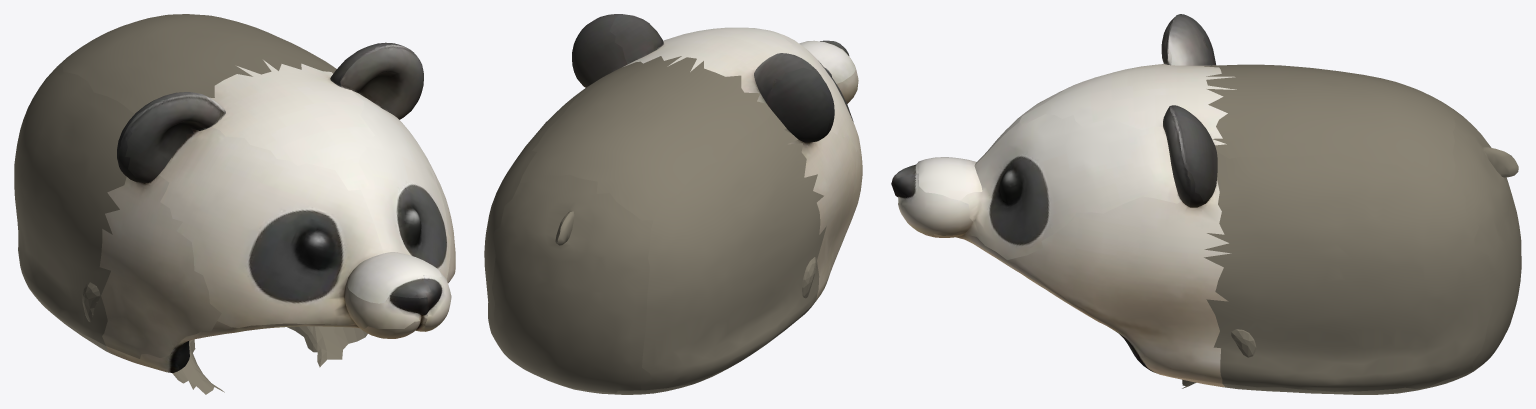
File: panda.glb
The picture shows the model from 3 angles, left to right: view 1: azimuth 30°, elevation 25°; view 2: azimuth 150°, elevation 25°; view 3: azimuth 270°, elevation 25°; orthographic projection. The views are drawn at different scales.
Parts seen in each view (by area): view 1: geometry_0, HoodAnatomicalLining; view 2: geometry_0, HoodAnatomicalLining; view 3: geometry_0, HoodAnatomicalLining.
Part boxes in pixels (<box>): geometry_0: <box>14,14,455,372</box>; HoodAnatomicalLining: <box>82,282,367,394</box>; geometry_0: <box>484,14,862,394</box>; HoodAnatomicalLining: <box>802,257,816,298</box>; geometry_0: <box>891,14,1521,394</box>; HoodAnatomicalLining: <box>1182,329,1256,388</box>.
Size of the model in its own units: 0.4688 by 0.4517 by 0.8656.
2 materials, 1 textured.
